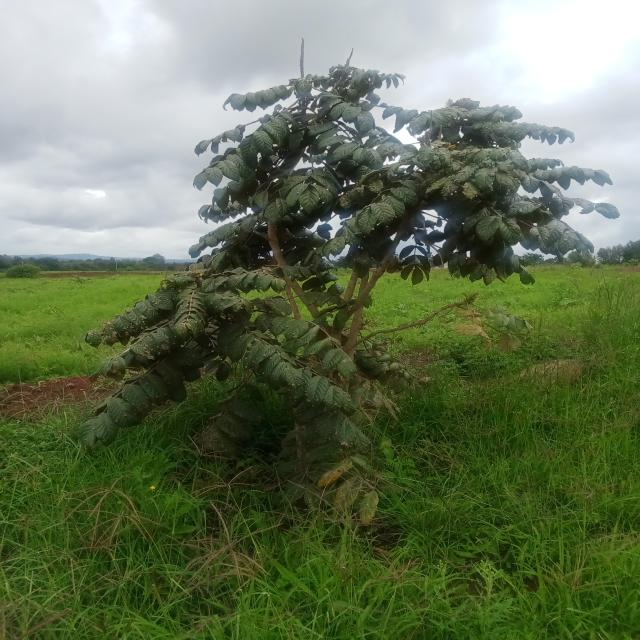Polyscias Kikuyensis: (52, 31, 625, 555)
